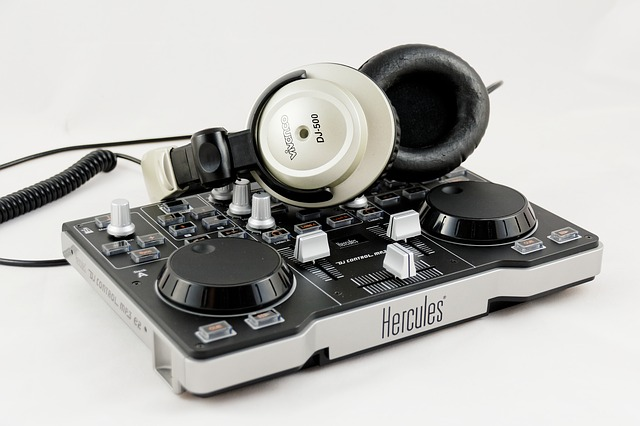headphones: (141, 44, 490, 209)
